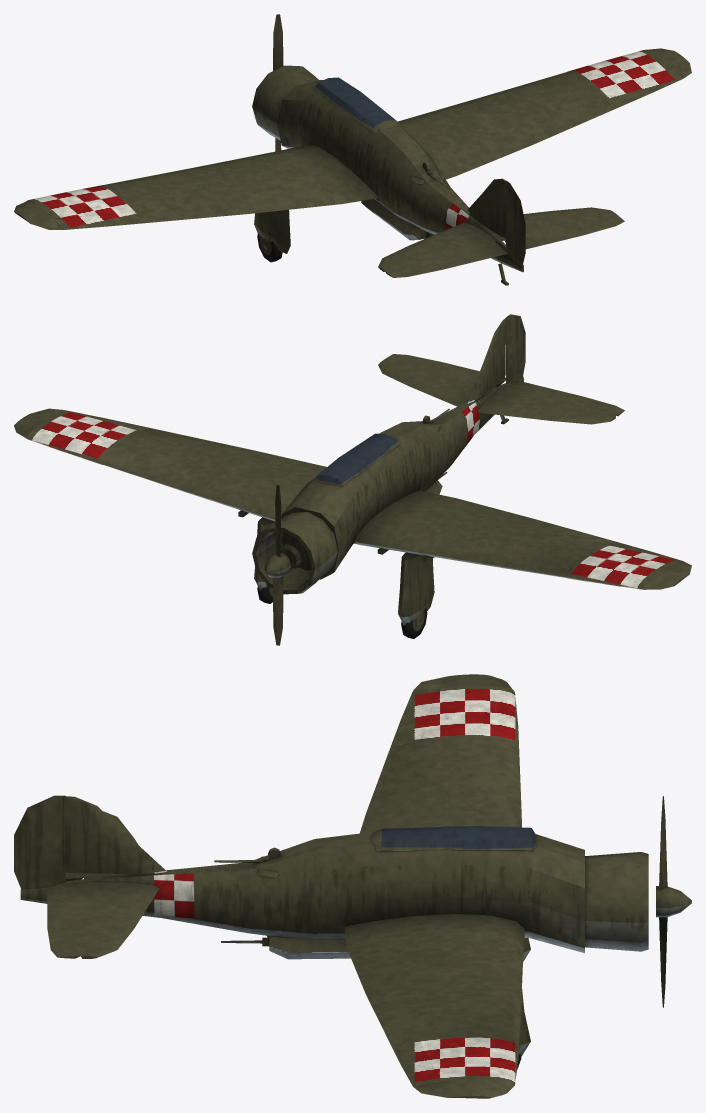
Rendered from PZL23B_MID.fbx.
The picture shows the model from 3 angles, top to bottom: view 1: azimuth 30°, elevation 25°; view 2: azimuth 150°, elevation 25°; view 3: azimuth 270°, elevation 25°; orthographic projection. The views are drawn at different scales.
Parts seen in each view (by area): view 1: Chassis, Elevator_G, Elevator_D, Rudder, Aileron_D, Aileron_G, Helice_LS_1; view 2: Chassis, Elevator_G, Rudder, Helice_LS_1, Elevator_D, Roue_Avant, Aileron_D, Aileron_G, Bloc_Moteur_1; view 3: Chassis, Rudder, Elevator_D, Aileron_G, Aileron_D, Helice_LS_1, Bloc_Moteur_1.
Boxes of the visible parts, x1=… form: Chassis: x1=14, y1=48, x2=691, y2=272; Elevator_G: x1=384, y1=241, x2=507, y2=277; Elevator_D: x1=504, y1=214, x2=624, y2=249; Rudder: x1=506, y1=180, x2=525, y2=263; Aileron_D: x1=603, y1=67, x2=682, y2=109; Aileron_G: x1=53, y1=211, x2=149, y2=229; Helice_LS_1: x1=273, y1=14, x2=283, y2=151; Chassis: x1=14, y1=318, x2=691, y2=625; Elevator_G: x1=504, y1=380, x2=624, y2=416; Rudder: x1=506, y1=314, x2=525, y2=383; Helice_LS_1: x1=272, y1=484, x2=283, y2=645; Elevator_D: x1=384, y1=354, x2=505, y2=386; Roue_Avant: x1=257, y1=586, x2=427, y2=638; Aileron_D: x1=53, y1=410, x2=149, y2=431; Aileron_G: x1=603, y1=541, x2=682, y2=565; Bloc_Moteur_1: x1=264, y1=553, x2=291, y2=577; Chassis: x1=20, y1=674, x2=648, y2=1098; Rudder: x1=14, y1=795, x2=65, y2=889; Elevator_D: x1=47, y1=884, x2=83, y2=958; Aileron_G: x1=390, y1=686, x2=441, y2=747; Aileron_D: x1=390, y1=1039, x2=441, y2=1086; Helice_LS_1: x1=659, y1=796, x2=667, y2=1007; Bloc_Moteur_1: x1=656, y1=886, x2=691, y2=917.
Size of the model in its own units: 1394 by 947 by 366.
Materials: 1 (1 with a texture image).
